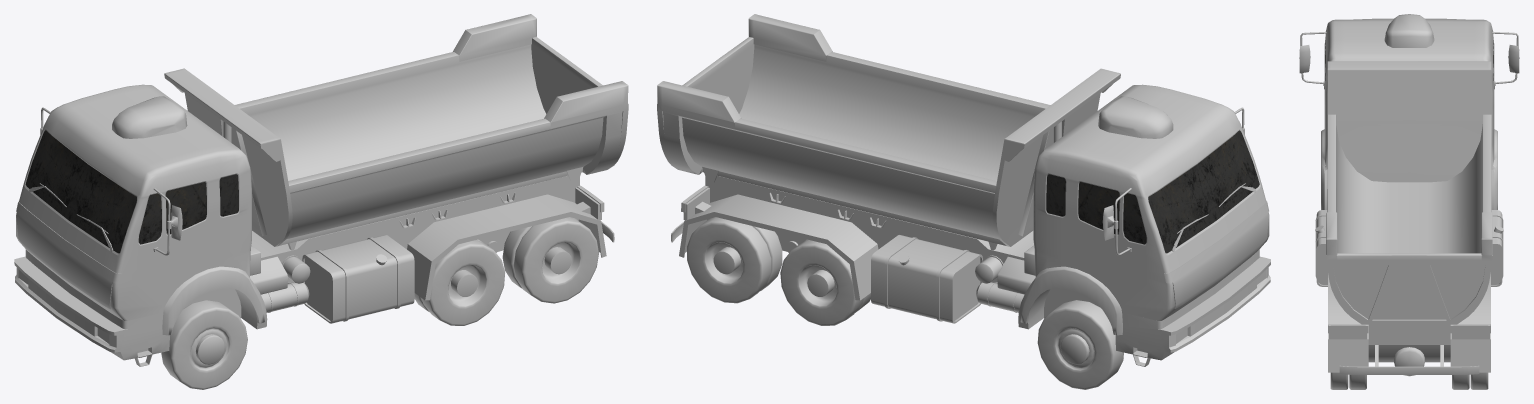
File: Truck01_Dump2.FBX
The picture shows the model from 3 angles, left to right: view 1: azimuth 30°, elevation 25°; view 2: azimuth 150°, elevation 25°; view 3: azimuth 270°, elevation 25°; orthographic projection. The views are drawn at different scales.
Parts seen in each view (by area): view 1: Truck01_Body, Truck01_Dump2, Truck01_Glass, Truck01_Dump2Back; view 2: Truck01_Body, Truck01_Dump2, Truck01_Glass, Truck01_Dump2Back; view 3: Truck01_Dump2, Truck01_Body, Truck01_Dump2Back.
Part boxes in pixels (bbox=[...]): Truck01_Body: bbox=[14, 84, 614, 389]; Truck01_Dump2: bbox=[164, 44, 622, 250]; Truck01_Glass: bbox=[25, 130, 238, 253]; Truck01_Dump2Back: bbox=[453, 14, 628, 170]; Truck01_Body: bbox=[671, 84, 1270, 389]; Truck01_Dump2: bbox=[663, 44, 1120, 250]; Truck01_Glass: bbox=[1046, 130, 1259, 253]; Truck01_Dump2Back: bbox=[657, 14, 832, 170]; Truck01_Dump2: bbox=[1327, 61, 1491, 253]; Truck01_Body: bbox=[1299, 14, 1519, 389]; Truck01_Dump2Back: bbox=[1326, 212, 1492, 324].
Size of the model in its own units: 879 by 403 by 376.
